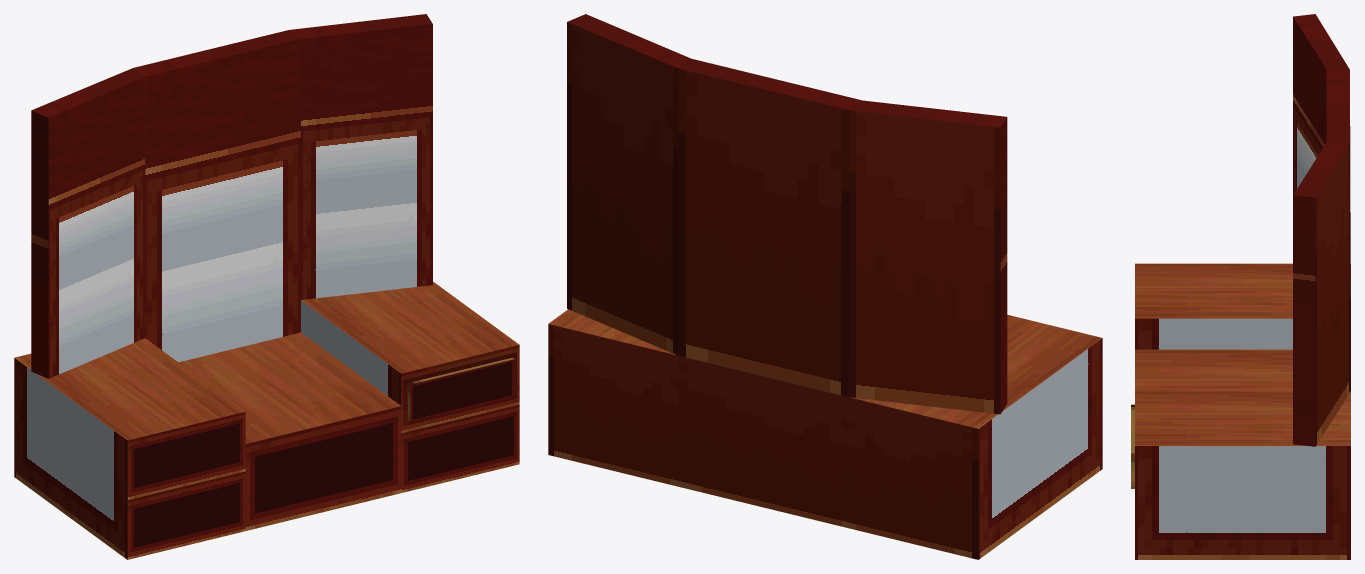
3 views of the same model, side by side, from view 1: azimuth 30°, elevation 25°; view 2: azimuth 150°, elevation 25°; view 3: azimuth 270°, elevation 25° (orthographic). The views are drawn at different scales.
Visible parts, largest first — view 1: 3036IMRL01_07; view 2: 3036IMRL01_07; view 3: 3036IMRL01_07.
Part boxes in pixels (x1=…): 3036IMRL01_07: x1=14, y1=14, x2=519, y2=559; 3036IMRL01_07: x1=548, y1=14, x2=1102, y2=559; 3036IMRL01_07: x1=1131, y1=14, x2=1350, y2=559.
Bounding box in the file's own units: 1.87 × 1.72 × 0.9468.
Materials: 4 (4 with a texture image).
